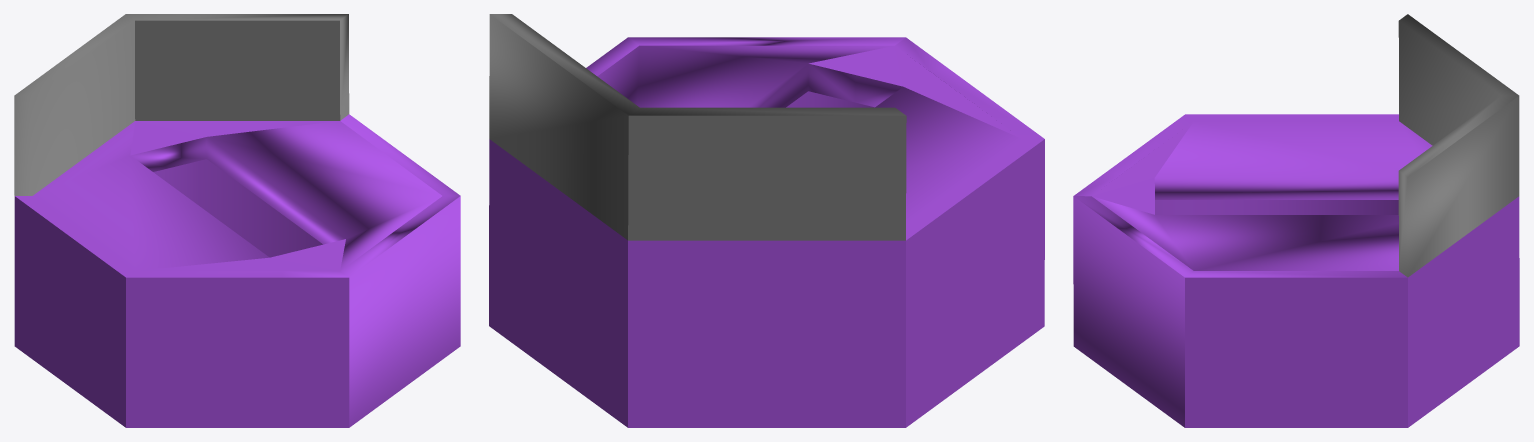
File: ResourceTileStage3_2.fbx
3 views of the same model, side by side, from view 1: azimuth 30°, elevation 25°; view 2: azimuth 150°, elevation 25°; view 3: azimuth 270°, elevation 25° (orthographic). The views are drawn at different scales.
Visible parts, largest first — view 1: ResourceTileStage3_2; view 2: ResourceTileStage3_2; view 3: ResourceTileStage3_2.
Boxes of the visible parts, box(x1,y1,x2,y2) form: ResourceTileStage3_2: box(14, 14, 460, 427); ResourceTileStage3_2: box(489, 14, 1044, 427); ResourceTileStage3_2: box(1073, 14, 1519, 427).
Bounding box in the file's own units: 173 × 124 × 200.
